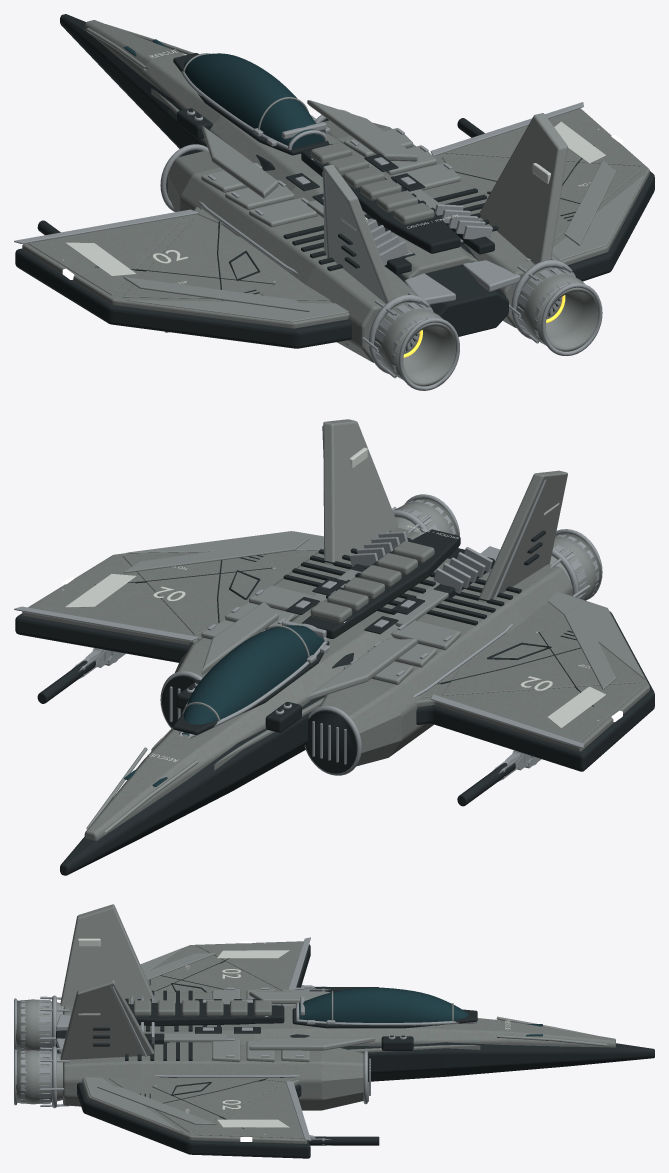
File: strider.glb
The picture shows the model from 3 angles, top to bottom: view 1: azimuth 30°, elevation 25°; view 2: azimuth 150°, elevation 25°; view 3: azimuth 270°, elevation 25°; orthographic projection. The views are drawn at different scales.
Visible parts, largest first — view 1: 主装甲_陶瓷金属涂层, 次级装甲_深色钢, 碳化结构与接缝, 拉丝钛合金, 镀膜座舱玻璃, 识别色; view 2: 主装甲_陶瓷金属涂层, 次级装甲_深色钢, 碳化结构与接缝, 拉丝钛合金, 镀膜座舱玻璃, 识别色; view 3: 主装甲_陶瓷金属涂层, 次级装甲_深色钢, 碳化结构与接缝, 拉丝钛合金, 镀膜座舱玻璃, 识别色.
Part boxes in pixels (box(x1,y1,x2,y2)): 主装甲_陶瓷金属涂层: box(22, 20, 649, 362); 次级装甲_深色钢: box(86, 24, 644, 386); 碳化结构与接缝: box(15, 14, 654, 350); 拉丝钛合金: box(14, 71, 602, 390); 镀膜座舱玻璃: box(124, 39, 324, 148); 识别色: box(65, 49, 605, 276); 主装甲_陶瓷金属涂层: box(22, 527, 649, 840); 次级装甲_深色钢: box(86, 419, 644, 834); 碳化结构与接缝: box(15, 529, 654, 875); 拉丝钛合金: box(14, 426, 602, 781); 镀膜座舱玻璃: box(124, 625, 324, 786); 识别色: box(65, 447, 605, 762); 主装甲_陶瓷金属涂层: box(63, 941, 615, 1143); 次级装甲_深色钢: box(16, 904, 606, 1132); 碳化结构与接缝: box(56, 944, 654, 1158); 拉丝钛合金: box(14, 937, 477, 1145); 镀膜座舱玻璃: box(299, 987, 542, 1036); 识别色: box(78, 938, 510, 1127).
Size of the model in its own units: 7.6 by 2.39 by 10.13.
Materials: 9 (1 with a texture image).
